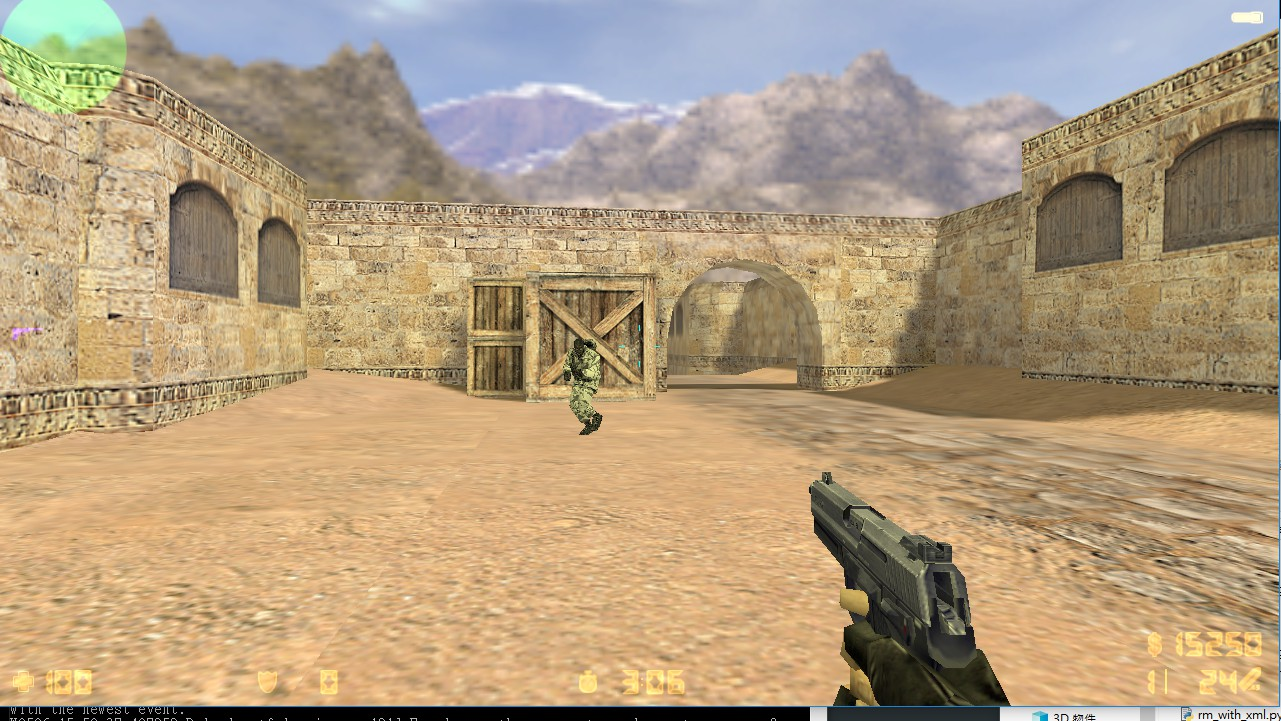person: (556, 332, 610, 441)
